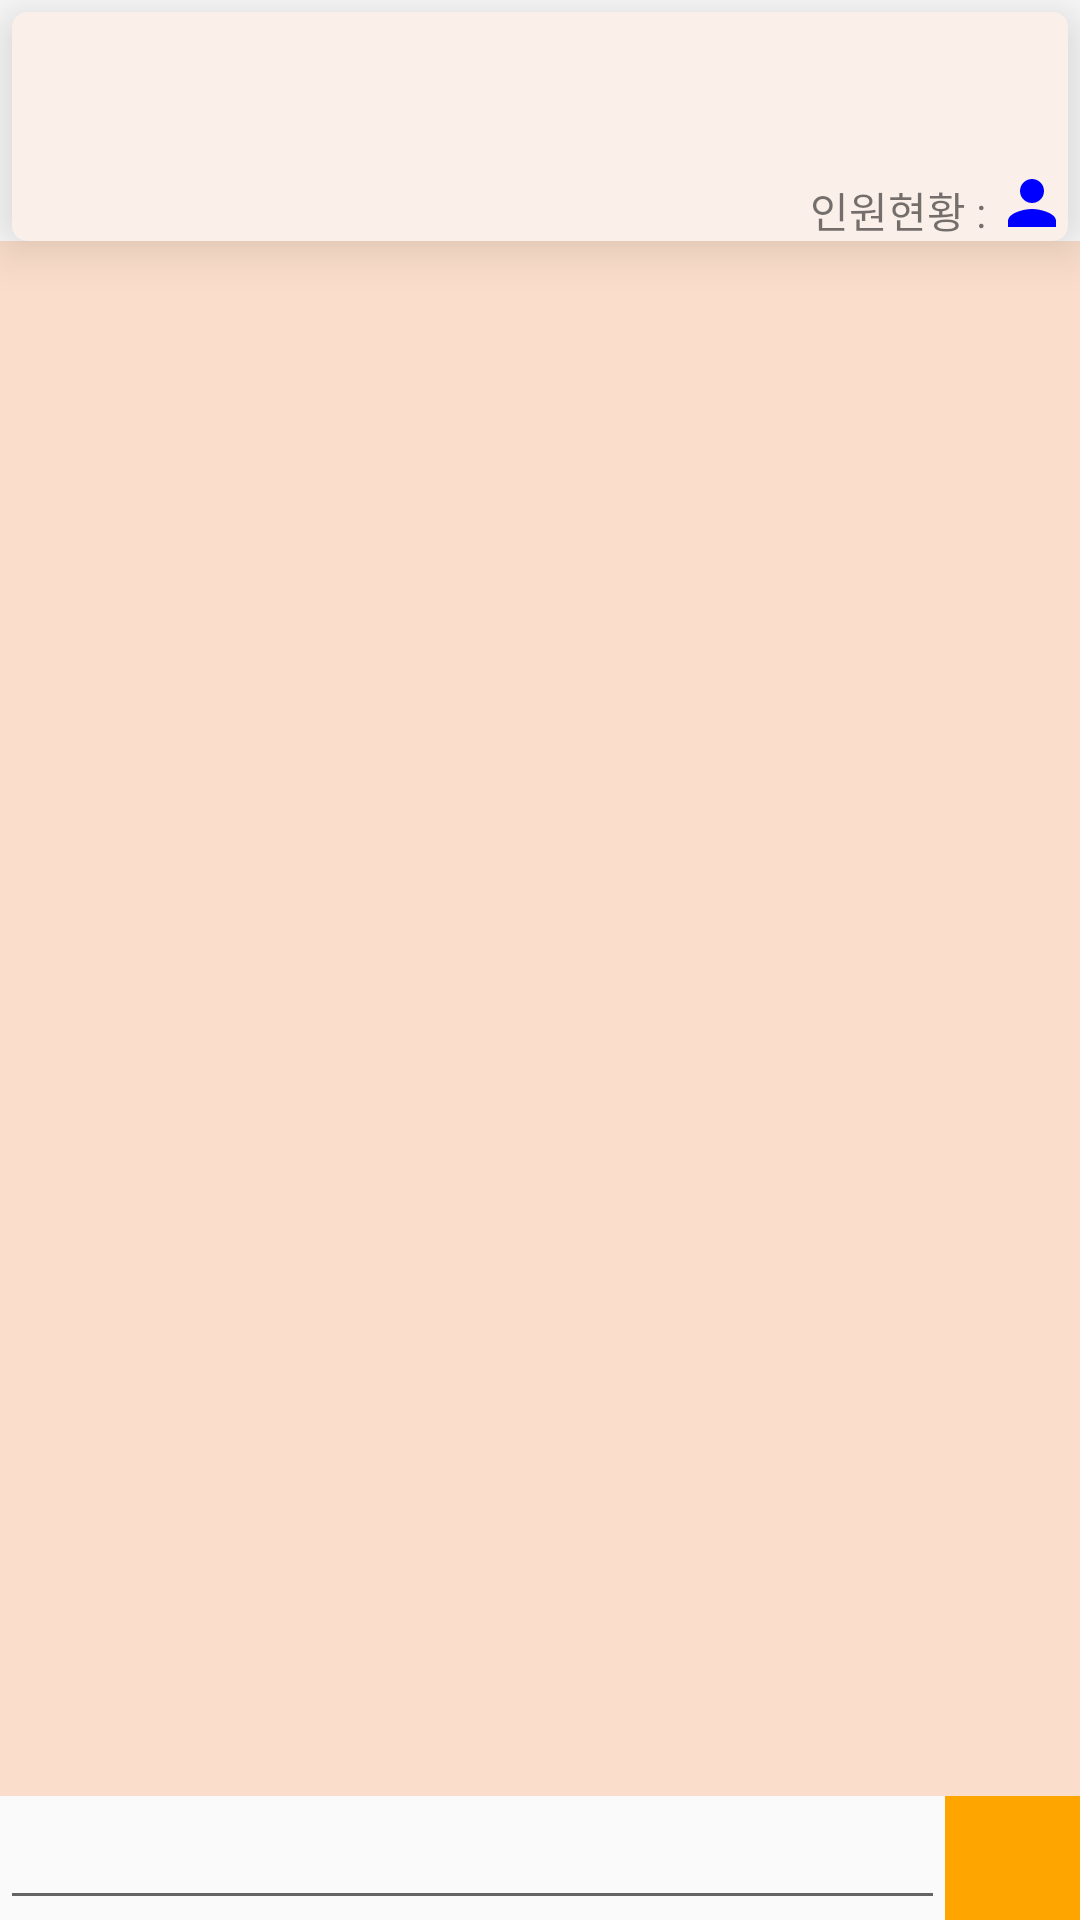

Named icons in this screenshot (1080px x 1920px) and their centers, point (x, y):
person: point (1032, 203)
